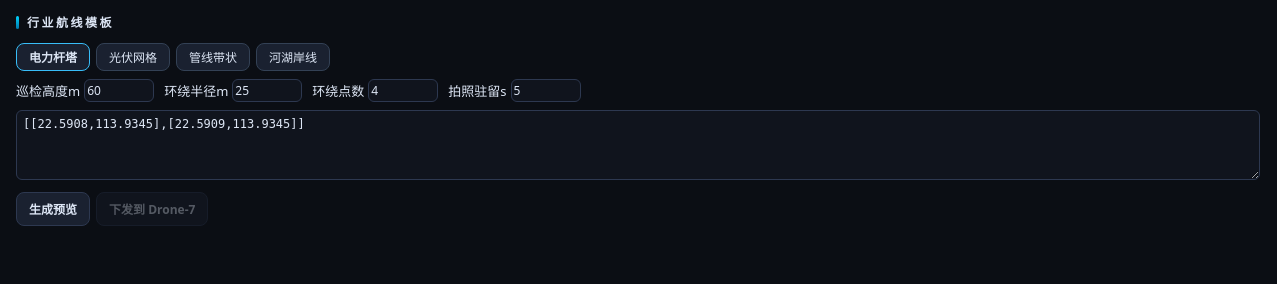
生成预览的失败与鉴权路径 › 后端 4xx：错误文案带上状态码与 result，不静默
The image size is (1277, 284).
Click the button "生成预览": (53, 209) [16, 192, 90, 226]
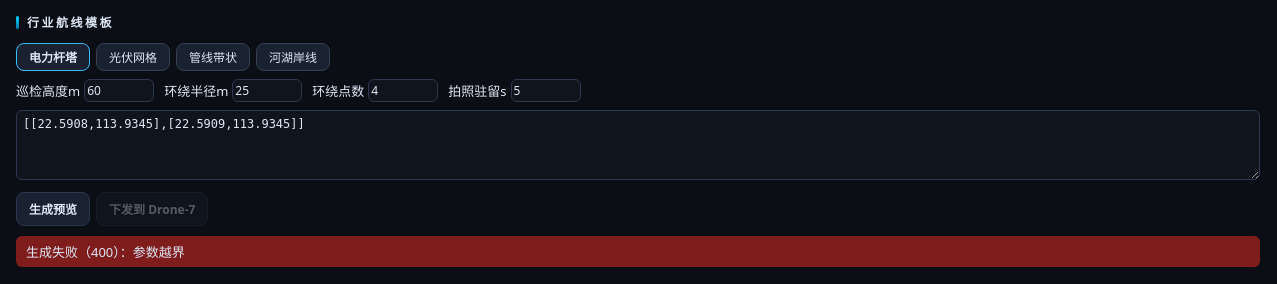
Check: the text "生成失败（400）：参数越界" is shown, box [16, 236, 1260, 267]
